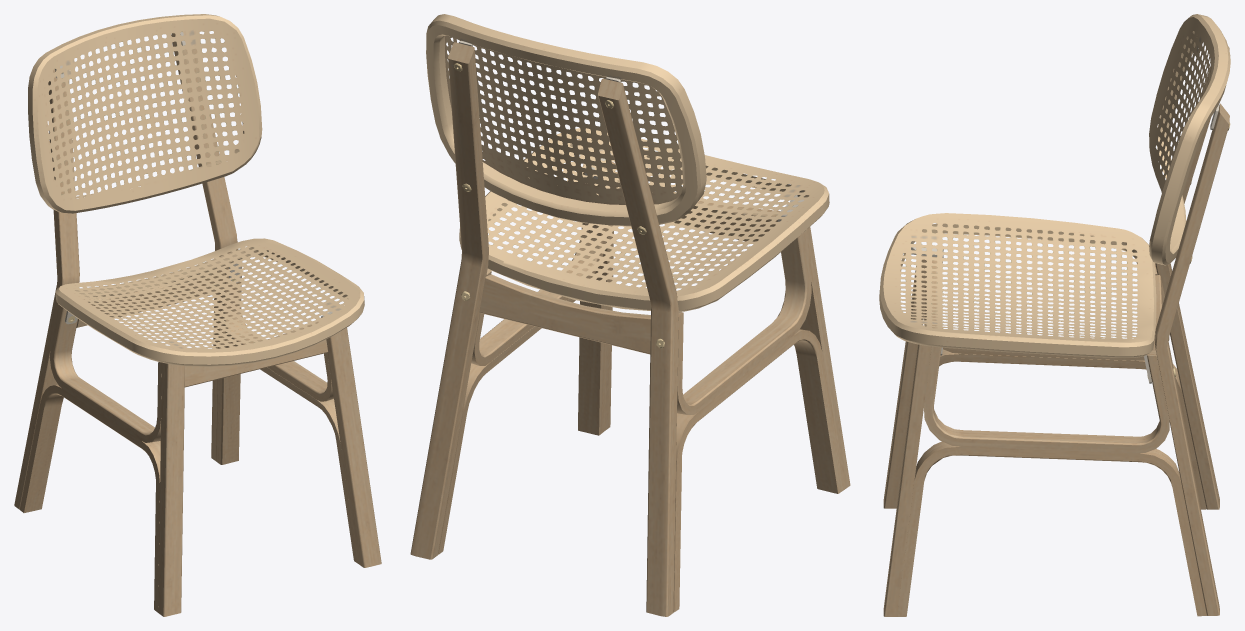
File: 44 - VOXLÖV Chair - light bamboo.glb
3 views of the same model, side by side, from view 1: azimuth 30°, elevation 25°; view 2: azimuth 150°, elevation 25°; view 3: azimuth 270°, elevation 25° (orthographic). The views are drawn at different scales.
Visible parts, largest first — view 1: 50450236-VOXLÃƒâ€“V001; view 2: 50450236-VOXLÃƒâ€“V001; view 3: 50450236-VOXLÃƒâ€“V001.
Part boxes in pixels (x1,y1,x2,y2): 50450236-VOXLÃƒâ€“V001: [14, 14, 381, 616]; 50450236-VOXLÃƒâ€“V001: [410, 14, 850, 616]; 50450236-VOXLÃƒâ€“V001: [879, 14, 1230, 616].
Bounding box in the file's own units: 0.4499 × 0.851 × 0.5396.
Materials: 1 (1 with a texture image).
